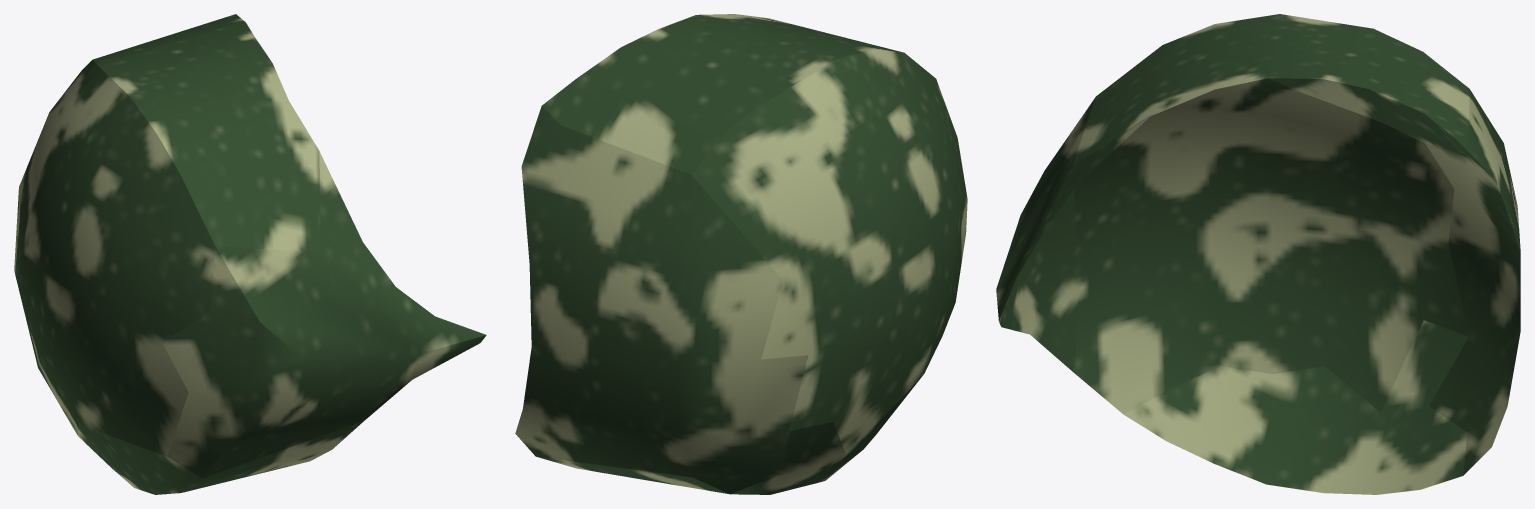
Rendered from link_body_18_composite.obj.
The picture shows the model from 3 angles, left to right: view 1: azimuth 30°, elevation 25°; view 2: azimuth 150°, elevation 25°; view 3: azimuth 270°, elevation 25°; orthographic projection. The views are drawn at different scales.
Parts seen in each view (by area): view 1: link_body_18; view 2: link_body_18; view 3: link_body_18.
Boxes of the visible parts, x1,y1,x2,y2 form: link_body_18: (14,14,486,494); link_body_18: (515,14,967,494); link_body_18: (996,14,1520,494).
Bounding box in the file's own units: 8.89 × 11.5 × 13.17.
1 material, 1 textured.
